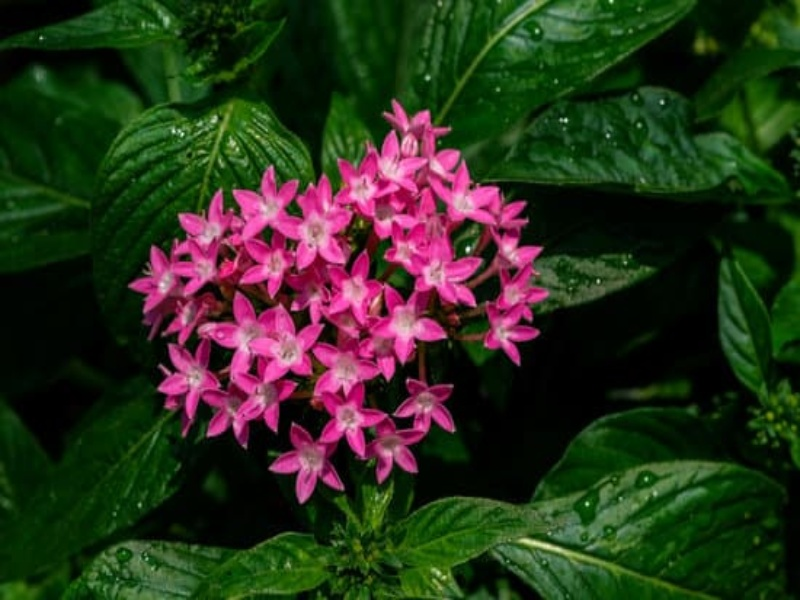Ixora: (118, 93, 562, 501)
